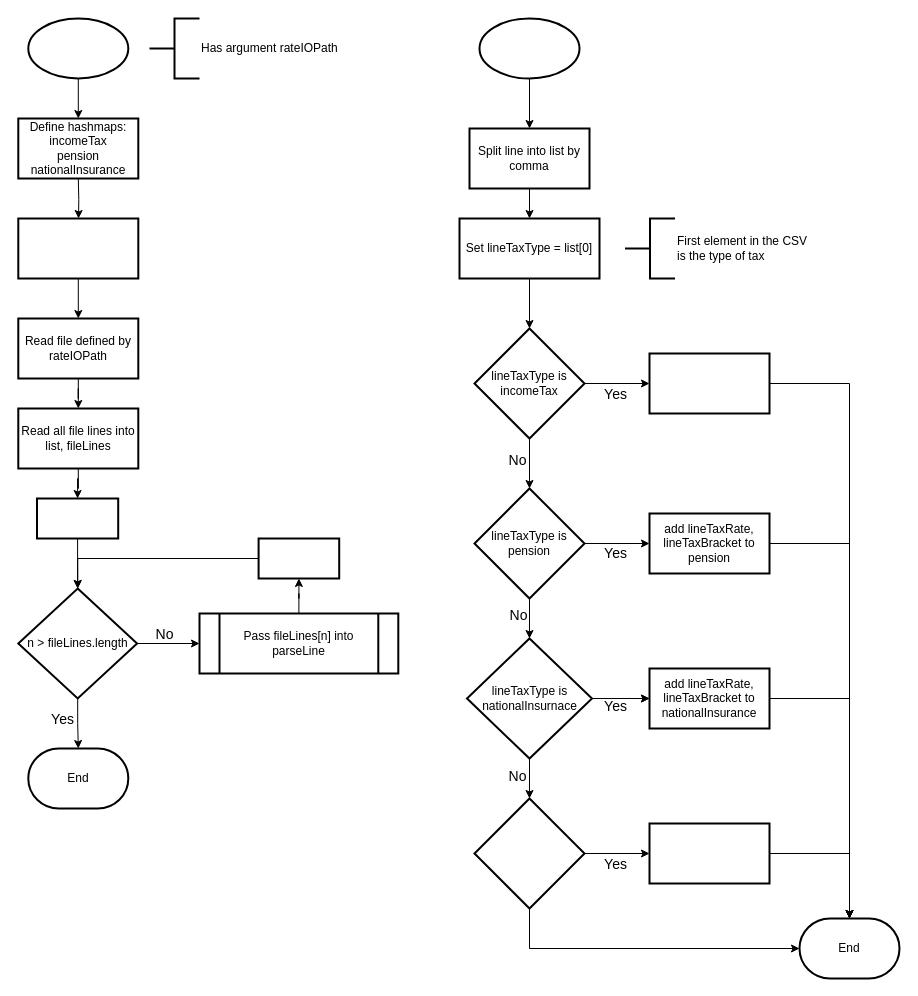
This 918x996 diagram has some shape labels left out. Here are the shapes that lost their labels. From the top down, the box of each, then its label:
(27, 17, 129, 79): RateIO.java Constructor
(478, 17, 580, 79): RateIO.java parseLine
(17, 217, 139, 279): Define number, monthlyParking
(648, 352, 770, 414): add lineTaxRate, lineTaxBracket to incomeTax
(36, 497, 119, 539): Set n=0
(257, 537, 340, 579): n = n + 1
(473, 797, 585, 909): lineTaxType is parking
(648, 822, 770, 884): add lineTaxRate, lineTaxBracket to monthlyParking
